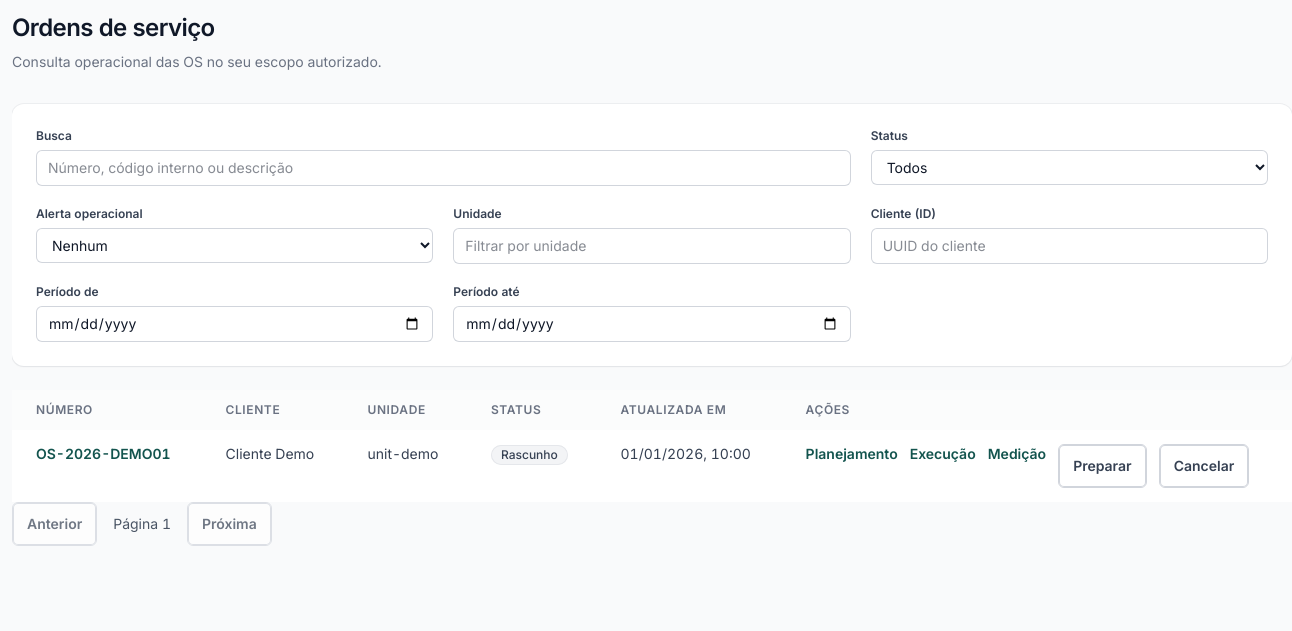
it: ServiceOrdersListPage › surfaces a mapped 409 message when a lifecycle action hits a version conflict
Click the button "Preparar".
click(1102, 466)  # box [1058,444,1147,488]
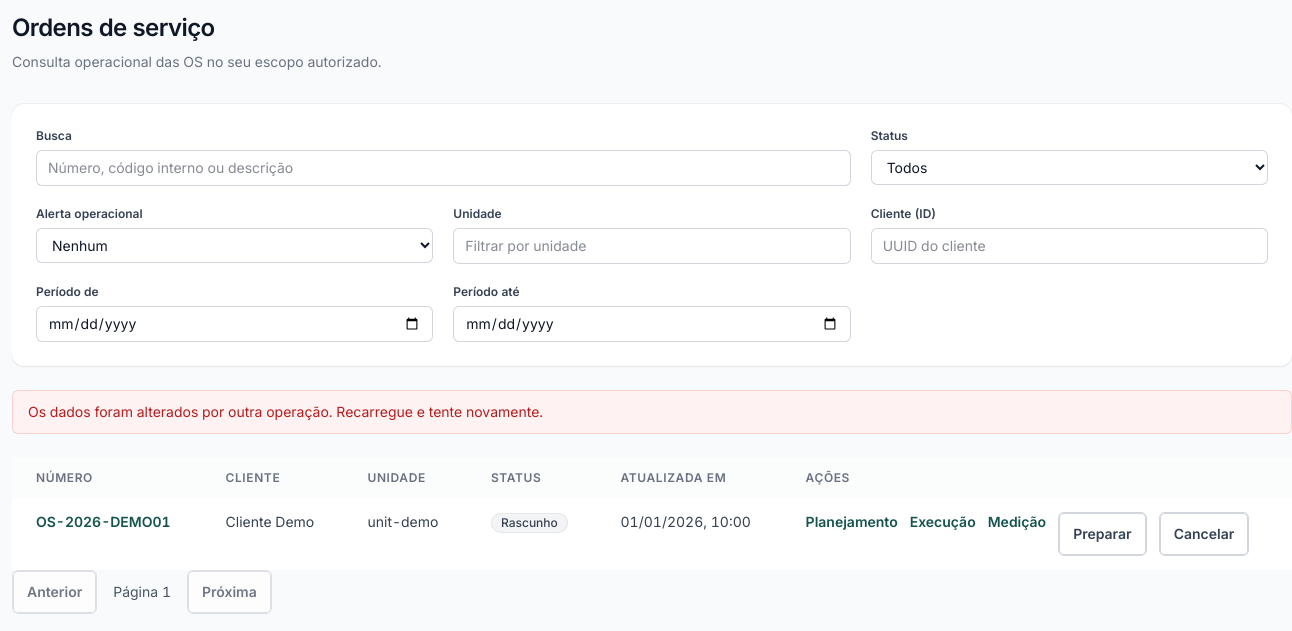
Result: the message shows "foram alterados por outra operação" at [28,403,543,420]
